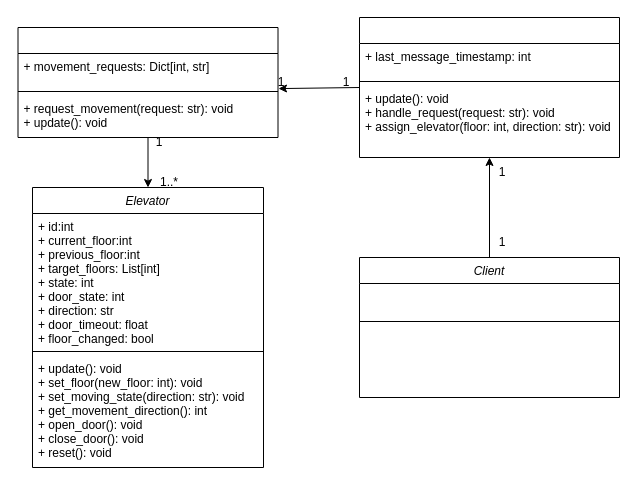
Some shapes in this 637 by 488 pixel diagram are drawn without their labels. Here are the shapes that lost their labels. From the top down, the box of each, then its label:
(17, 26, 278, 138): Engine
(358, 16, 620, 158): Dispatcher
